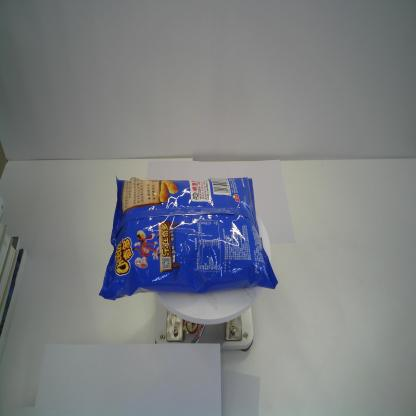Puffed Food: (99, 174, 279, 304)
